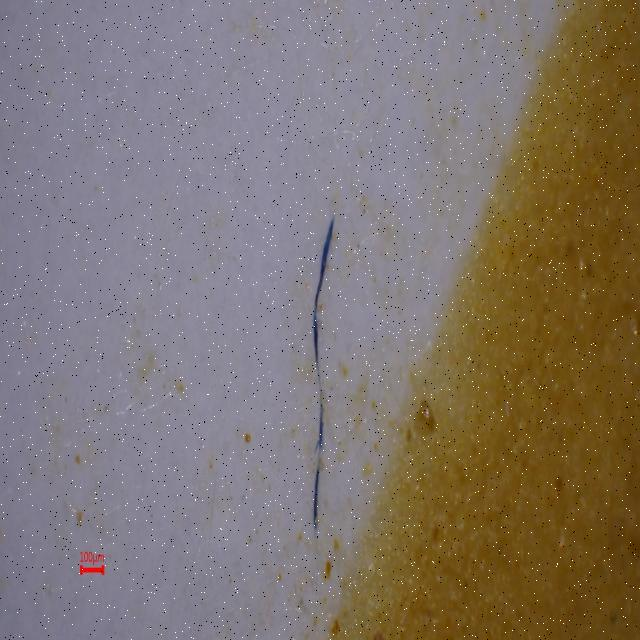fibers: (303, 216, 334, 529)
